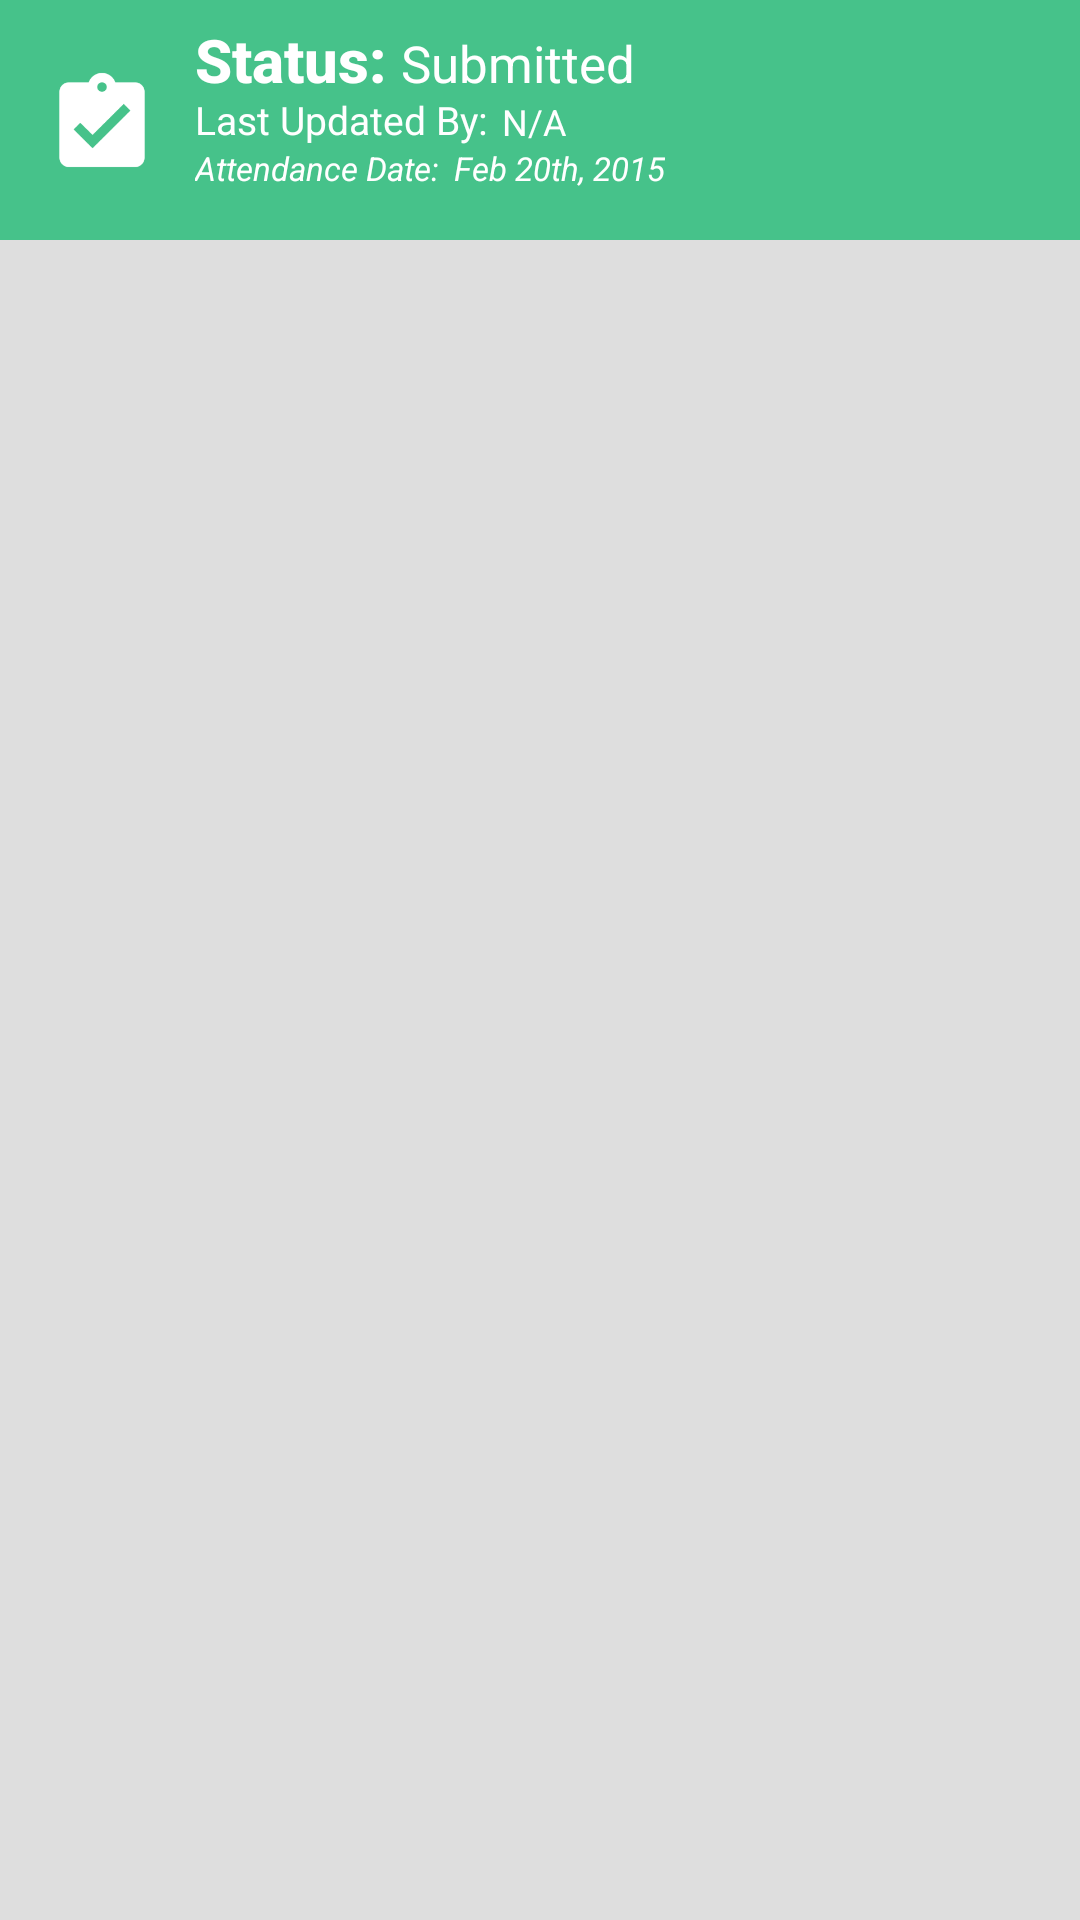

Named icons in this screenshot (1080px×1920px) and their centers, (x,y):
success: (102,120)
